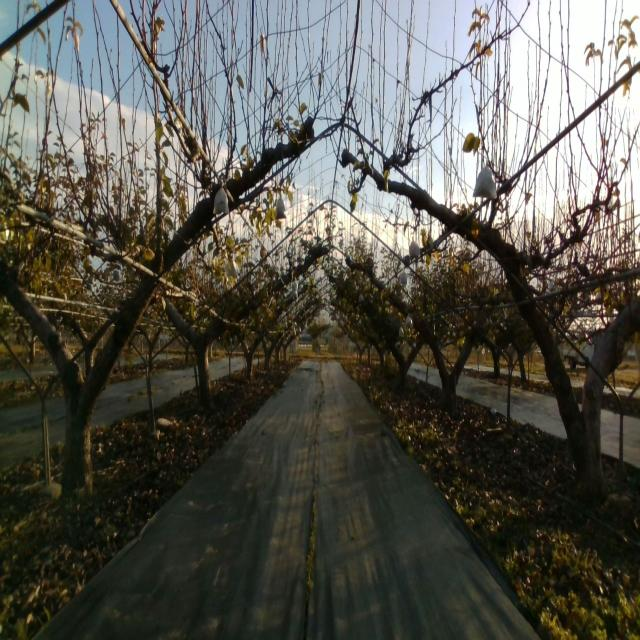pearbags: (472, 157, 498, 200), (212, 179, 230, 216), (275, 193, 287, 220), (409, 235, 421, 262), (225, 260, 240, 279)
